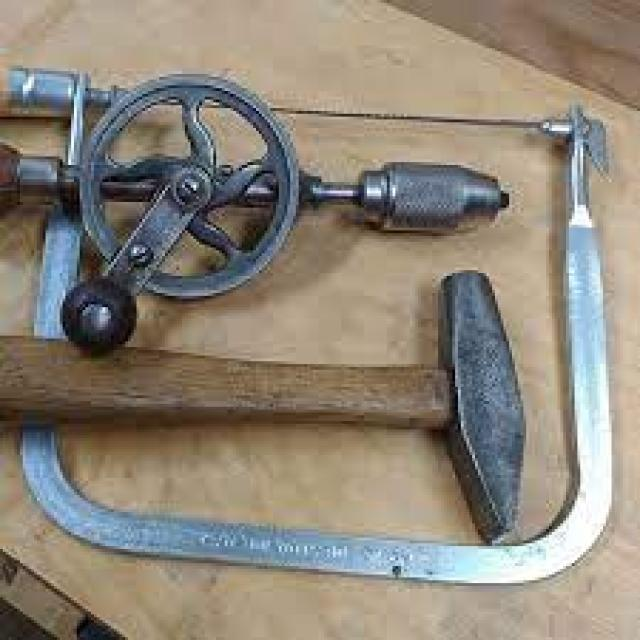hammer: (0, 257, 549, 582)
